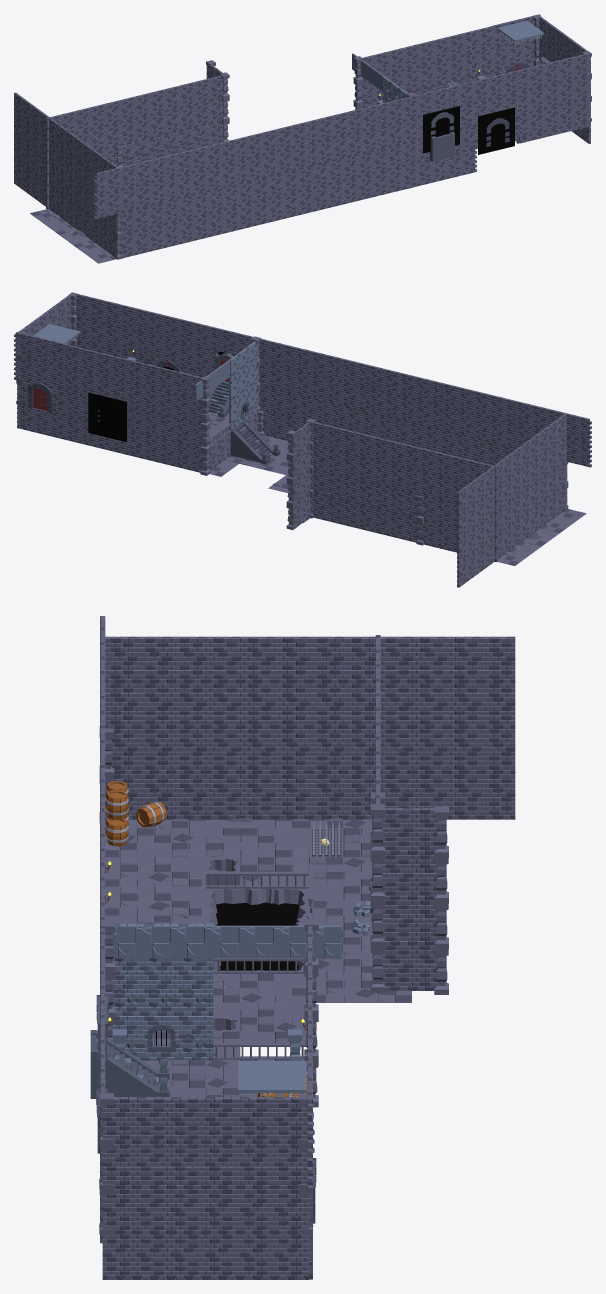
Rendered from dungeon.fbx.
The picture shows the model from 3 angles, top to bottom: view 1: azimuth 30°, elevation 25°; view 2: azimuth 150°, elevation 25°; view 3: azimuth 270°, elevation 25°; orthographic projection. The views are drawn at different scales.
Parts seen in each view (by area): view 1: brick wall.004, brick wall.006, brick wall.007, brick wall.012, brick wall.001, brick wall.002, brick wall.010, brick wall.003, Plane.002, brick wall.005, Plane.001, spikes floor (+6 smaller); view 2: brick wall.004, brick wall.012, brick wall.007, brick wall.006, brick wall.001, brick wall.011, brick wall.003, brick wall.009, brick wall.014, brick wall.026, Plane, brick wall.005 (+9 smaller); view 3: brick wall.007, brick wall.005, brick wall.013, brick wall.026, brick wall.014, floor.013, stairs.003, brick wall.004, floor.151, floor.096, pillar.005, pillar.004 (+10 smaller).
Part boxes in pixels (box(x1,y1,x2,y2)): brick wall.004: box(93, 53, 590, 219); brick wall.006: box(120, 127, 476, 257); brick wall.007: box(14, 92, 119, 255); brick wall.012: box(46, 75, 223, 209); brick wall.001: box(358, 26, 492, 103); brick wall.002: box(516, 100, 590, 143); brick wall.010: box(121, 125, 209, 166); brick wall.003: box(491, 14, 540, 71); Plane.002: box(478, 107, 514, 154); brick wall.005: box(538, 15, 590, 95); Plane.001: box(423, 106, 459, 153); spikes floor: box(497, 20, 544, 45); brick wall.004: box(72, 293, 591, 467); brick wall.012: box(311, 422, 497, 562); brick wall.007: box(457, 413, 567, 587); brick wall.006: box(190, 370, 515, 465); brick wall.001: box(65, 344, 202, 424); brick wall.011: box(17, 404, 202, 472); brick wall.003: box(14, 332, 67, 391); brick wall.009: box(63, 392, 202, 448); brick wall.014: box(229, 341, 258, 430); brick wall.026: box(291, 422, 310, 526); Plane: box(88, 392, 126, 442); brick wall.005: box(18, 295, 71, 344); brick wall.007: box(103, 636, 515, 819); brick wall.005: box(102, 1097, 307, 1189); brick wall.013: box(102, 1189, 308, 1279); brick wall.026: box(381, 808, 446, 990); brick wall.014: box(112, 923, 213, 1060); floor.013: box(112, 925, 341, 958); stairs.003: box(90, 1030, 169, 1098); brick wall.004: box(100, 616, 105, 1182); floor.151: box(143, 1059, 307, 1097); floor.096: box(215, 902, 299, 970); pillar.005: box(434, 806, 448, 994); pillar.004: box(370, 804, 384, 992).
Size of the model in its own units: 7060 by 1436 by 2600.
